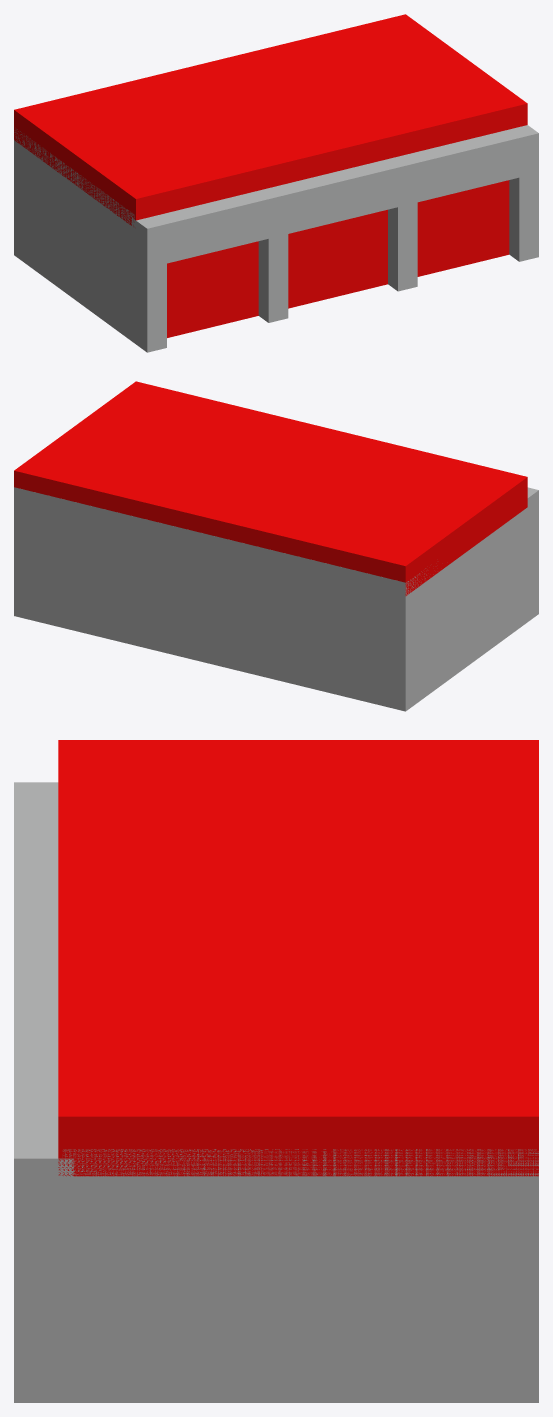
3 renders of one model, top to bottom at view 1: azimuth 30°, elevation 25°; view 2: azimuth 150°, elevation 25°; view 3: azimuth 270°, elevation 25°, orthographic. The views are drawn at different scales.
Visible parts, largest first — view 1: roof_slab, beam, red_doors, walls; view 2: walls, roof_slab, beam; view 3: roof_slab, walls, beam.
Part boxes in pixels (bbox=[...]): roof_slab: bbox=[14, 14, 527, 226]; beam: bbox=[132, 125, 538, 352]; red_doors: bbox=[167, 180, 509, 337]; walls: bbox=[14, 129, 134, 341]; walls: bbox=[14, 487, 523, 711]; roof_slab: bbox=[14, 381, 527, 595]; beam: bbox=[524, 487, 538, 624]; roof_slab: bbox=[58, 740, 538, 1176]; walls: bbox=[62, 1149, 538, 1402]; beam: bbox=[14, 782, 73, 1402].
Bounding box in the file's own units: 11.96 × 4.24 × 7.05.
